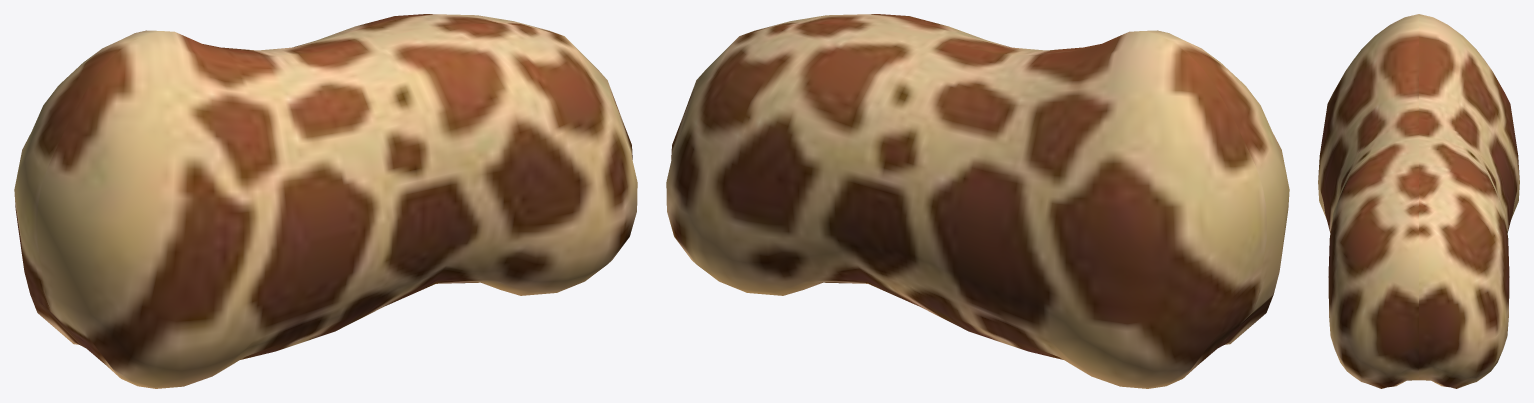
File: Giraffe_Body_0.FBX
3 views of the same model, side by side, from view 1: azimuth 30°, elevation 25°; view 2: azimuth 150°, elevation 25°; view 3: azimuth 270°, elevation 25° (orthographic). The views are drawn at different scales.
Visible parts, largest first — view 1: Giraffe_Body_0; view 2: Giraffe_Body_0; view 3: Giraffe_Body_0.
Part boxes in pixels (x1=…): Giraffe_Body_0: x1=14, y1=14, x2=637, y2=388; Giraffe_Body_0: x1=666, y1=14, x2=1289, y2=388; Giraffe_Body_0: x1=1318, y1=14, x2=1519, y2=388.
Bounding box in the file's own units: 3.74 × 2.07 × 1.59.
